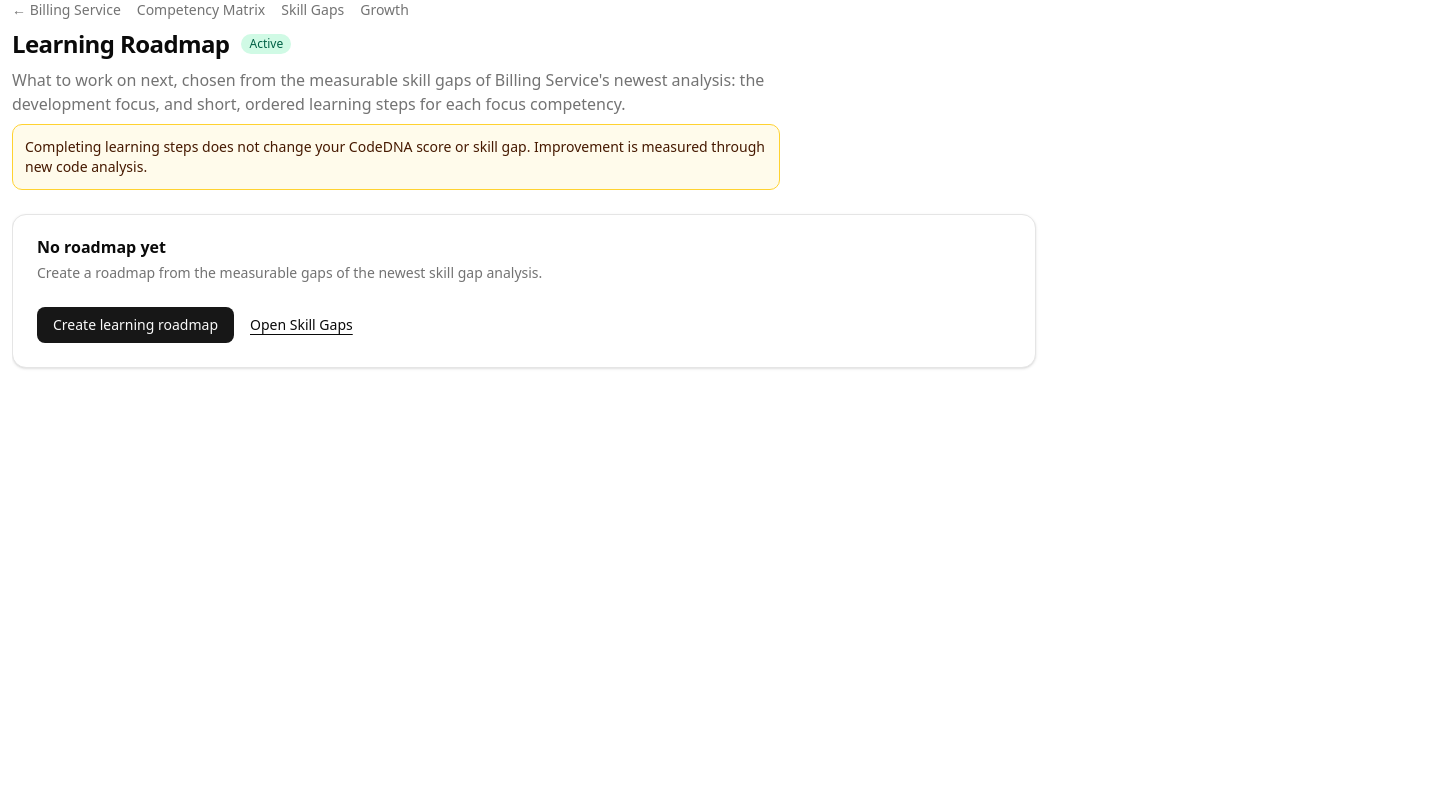
RoadmapView › without a roadmap › offers to create one from an analysis with gaps, sending an empty request
The width and height of the screenshot is (1452, 810).
expect the element with test id "roadmap-empty" shows "No roadmap yet": met, box [37,236,166,258]
Click the button "Create learning roadmap" at point(136, 325), box [37,307,234,343]
(page scrolled)
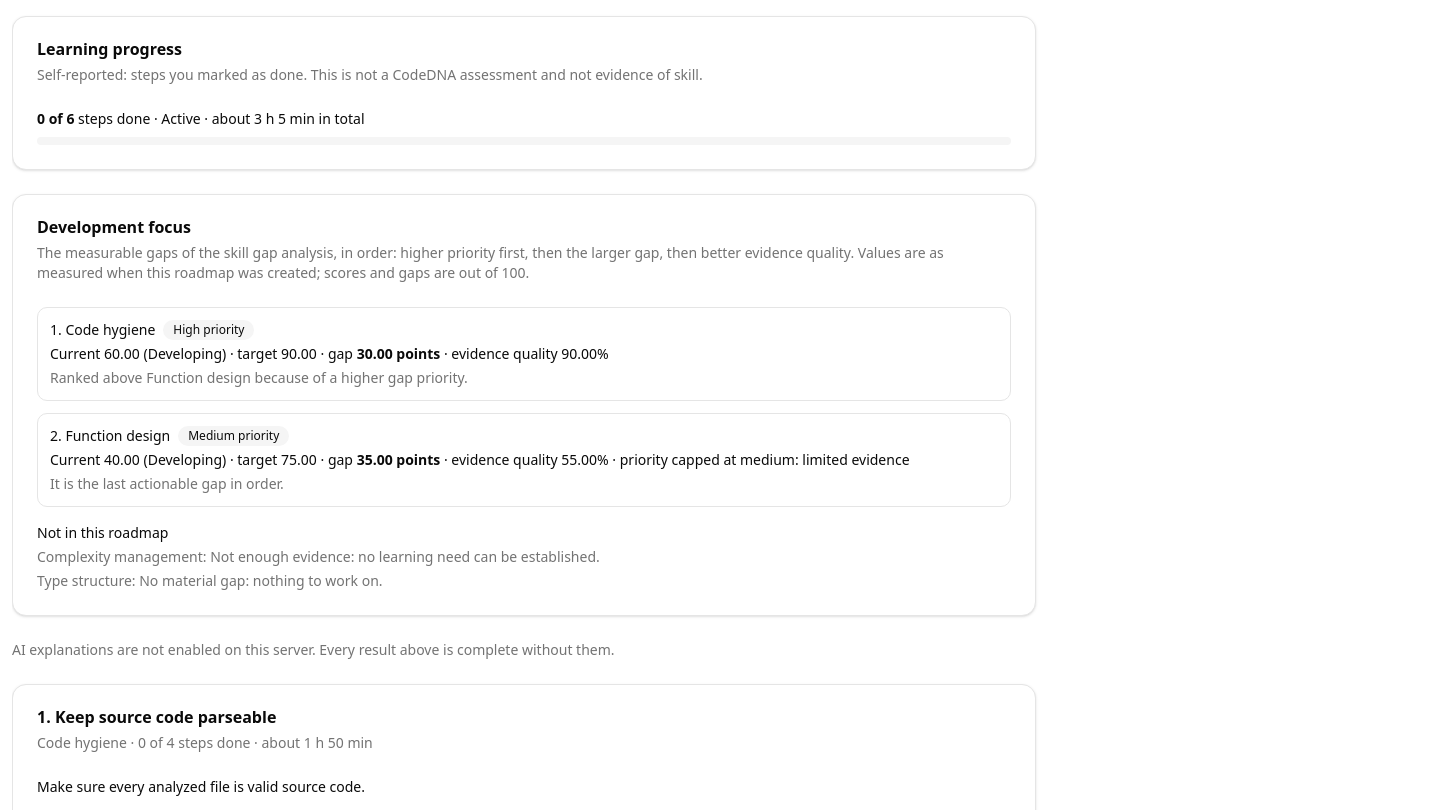
expect the element with test id "development-focus" is shown: met, box [12,194,1036,616]
